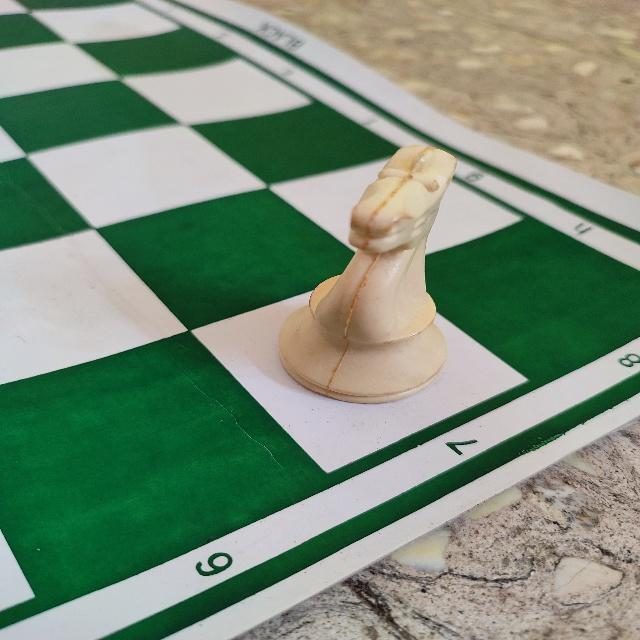Knight: (271, 141, 458, 407)
